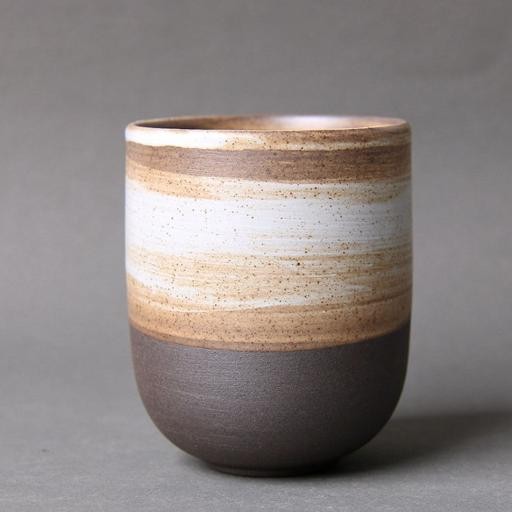cup: (126, 116, 411, 475)
